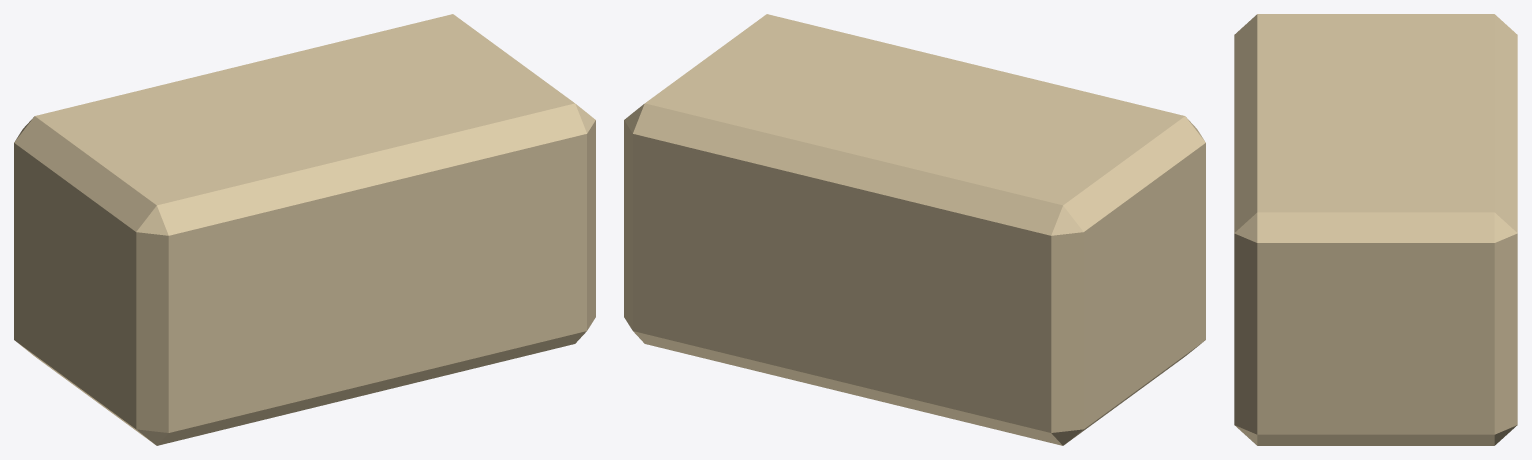
File: stone_block.glb
3 views of the same model, side by side, from view 1: azimuth 30°, elevation 25°; view 2: azimuth 150°, elevation 25°; view 3: azimuth 270°, elevation 25° (orthographic). The views are drawn at different scales.
Visible parts, largest first — view 1: Stone_block; view 2: Stone_block; view 3: Stone_block.
Part boxes in pixels (x1,y1,x2,y2): Stone_block: (14, 14, 595, 445); Stone_block: (624, 14, 1205, 445); Stone_block: (1234, 14, 1517, 445).
Bounding box in the file's own units: 1 × 0.5 × 0.55.
